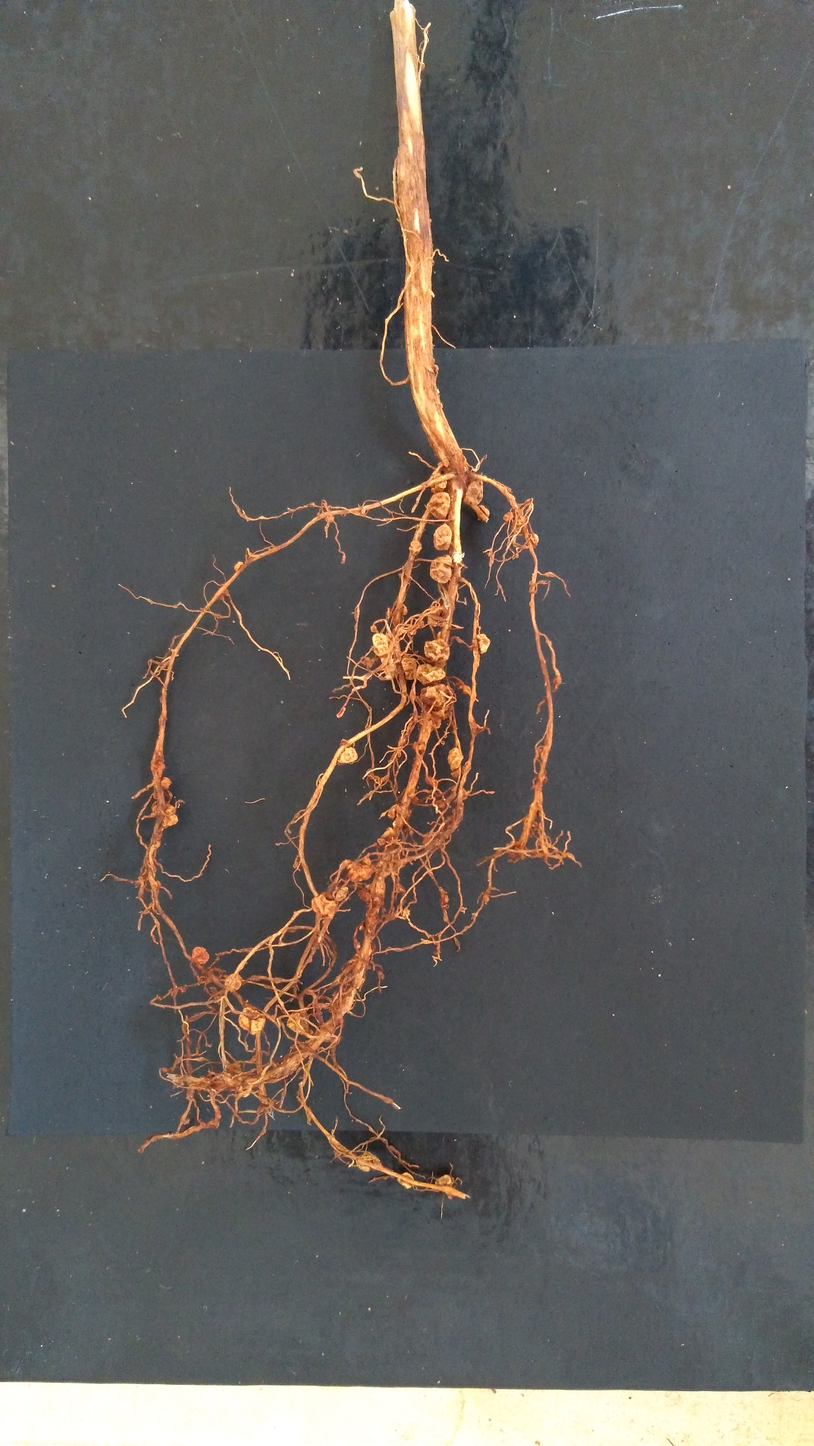nodule: (371, 632, 398, 664), (238, 1006, 266, 1035), (429, 553, 453, 584), (420, 683, 448, 708), (416, 663, 445, 687), (286, 1011, 313, 1036), (426, 492, 451, 519), (423, 638, 451, 662), (311, 894, 336, 917), (463, 478, 484, 505), (338, 738, 359, 764), (433, 523, 452, 551), (400, 655, 420, 681), (356, 1151, 380, 1172), (447, 747, 463, 777), (160, 803, 179, 828), (427, 605, 449, 626), (505, 840, 528, 860), (347, 864, 373, 881), (430, 470, 449, 493), (380, 657, 398, 681), (422, 831, 443, 851), (419, 713, 442, 730), (223, 972, 243, 991), (191, 945, 209, 964), (236, 1076, 253, 1096), (511, 513, 526, 535), (330, 884, 349, 901), (395, 1172, 415, 1188), (434, 1174, 453, 1188), (476, 634, 490, 653), (226, 1061, 242, 1076), (476, 504, 490, 521), (409, 539, 422, 555), (388, 804, 400, 821), (358, 888, 371, 903), (424, 776, 440, 788), (160, 775, 172, 790), (526, 533, 538, 547), (412, 740, 426, 752), (362, 851, 372, 867), (233, 561, 244, 571), (325, 512, 335, 522), (400, 603, 408, 615), (504, 512, 513, 521), (377, 838, 387, 846), (377, 969, 385, 979), (417, 619, 425, 627), (370, 625, 378, 633), (354, 941, 361, 950), (305, 988, 313, 995), (358, 923, 364, 931), (444, 894, 449, 903)
